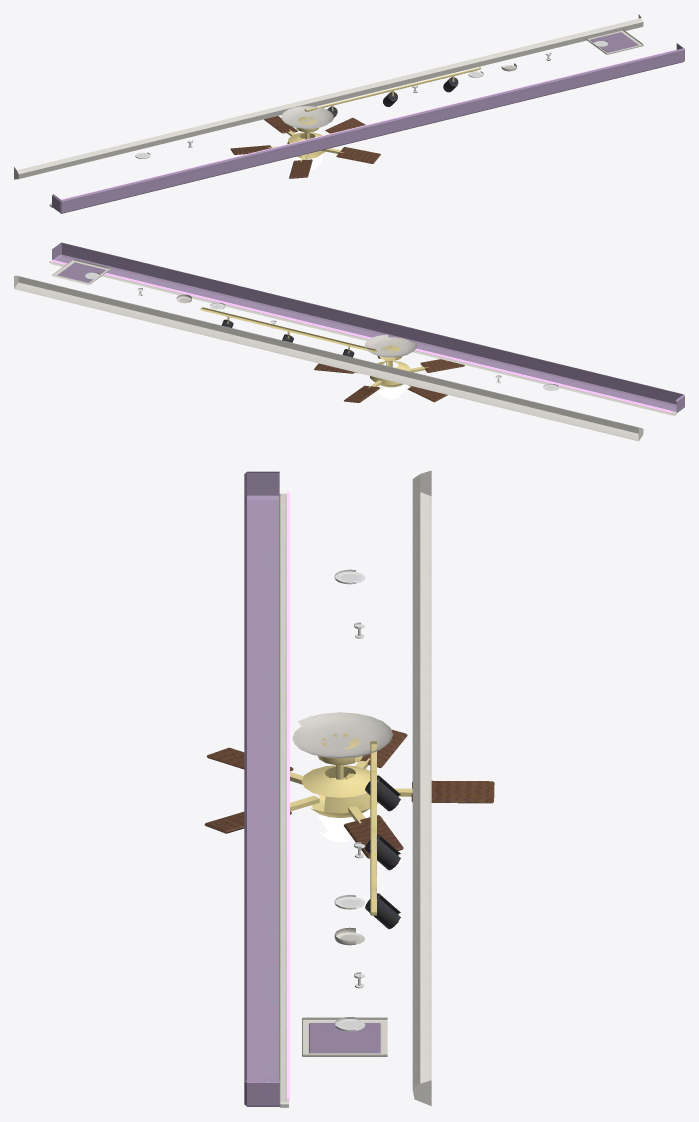
The model's file is ceiling_room1.glb.
3 views of the same model, one above another, from view 1: azimuth 30°, elevation 25°; view 2: azimuth 150°, elevation 25°; view 3: azimuth 270°, elevation 25° (orthographic). The views are drawn at different scales.
Parts seen in each view (by area): view 1: decor, Cube.012, Cube.010; view 2: decor, Cube.010, Cube.006; view 3: decor, Cube.006, Cube.004.
Part boxes in pixels (left/top/right/bottom): decor: left=14, top=14, right=684, bottom=213; Cube.012: left=336, top=147, right=380, bottom=163; Cube.010: left=289, top=159, right=312, bottom=178; decor: left=14, top=242, right=684, bottom=441; Cube.010: left=420, top=359, right=464, bottom=372; Cube.006: left=344, top=385, right=379, bottom=402; decor: left=244, top=470, right=431, bottom=1107; Cube.006: left=411, top=780, right=494, bottom=803; Cube.004: left=343, top=815, right=403, bottom=858.
Size of the model in its own units: 15 by 1.18 by 3.02.
Materials: 5 (1 with a texture image).
